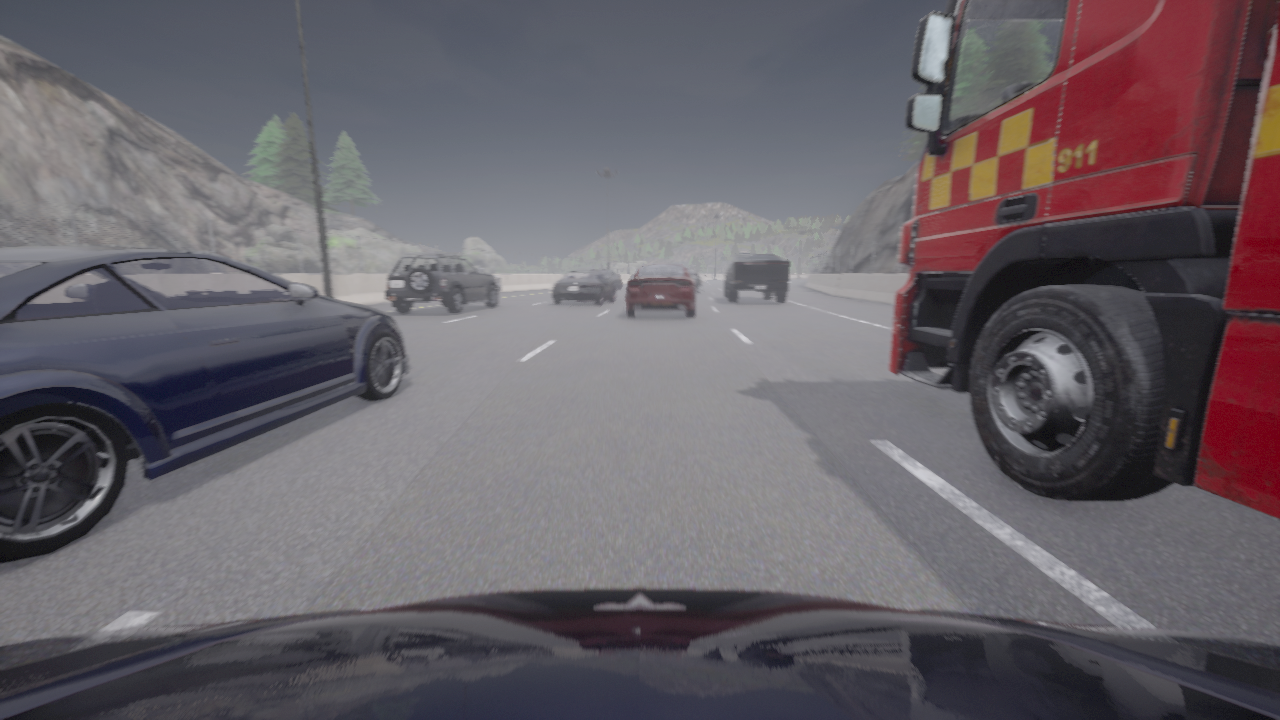cyclist: (888, 0, 1279, 519), (0, 588, 1279, 719), (0, 246, 410, 563), (384, 253, 500, 313), (626, 262, 696, 316), (723, 253, 789, 302), (551, 269, 615, 304), (599, 269, 621, 288), (687, 269, 705, 292)
